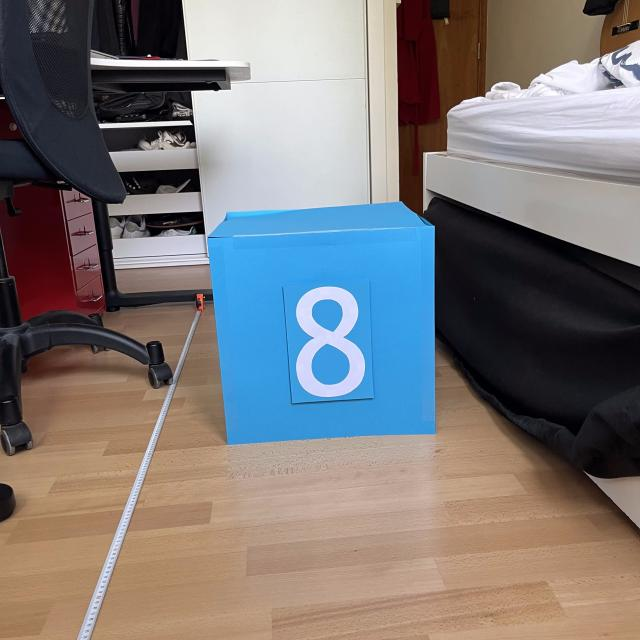box: (202, 198, 441, 446)
